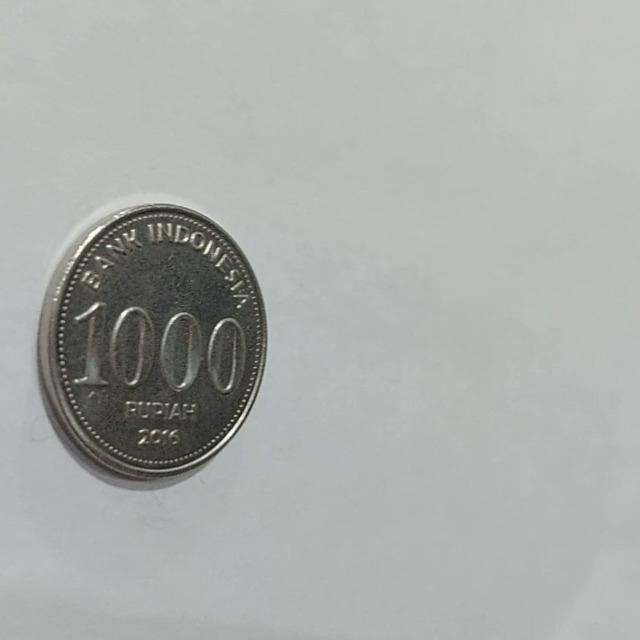Rp100: (35, 199, 269, 489)
